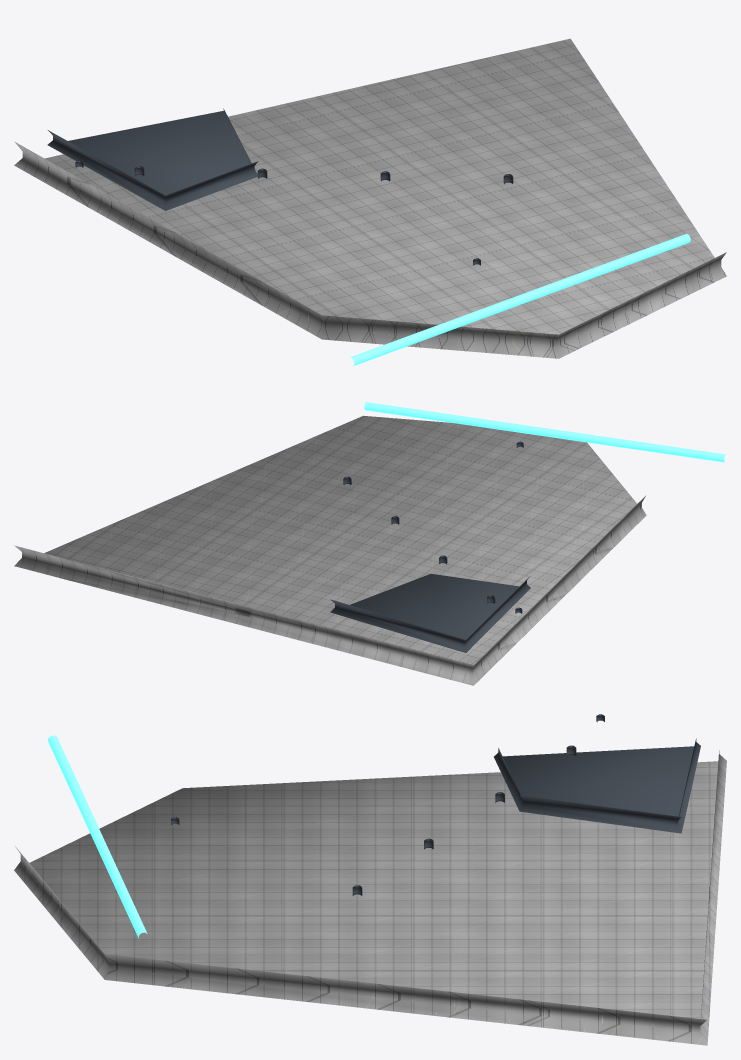
Rendered from fin_delta.glb.
3 renders of one model, top to bottom at view 1: azimuth 30°, elevation 25°; view 2: azimuth 150°, elevation 25°; view 3: azimuth 270°, elevation 25°, orthographic. The views are drawn at different scales.
Parts seen in each view (by area): view 1: Delta_Main, fin_delta_Material_Mechanical_Merged, Delta_Edge; view 2: Delta_Main, fin_delta_Material_Mechanical_Merged, Delta_Edge; view 3: Delta_Main, fin_delta_Material_Mechanical_Merged, Delta_Edge.
Part boxes in pixels (box(x1,y1,x2,y2)): Delta_Main: box(14, 38, 726, 358); fin_delta_Material_Mechanical_Merged: box(47, 108, 513, 265); Delta_Edge: box(350, 233, 690, 366); Delta_Main: box(14, 415, 646, 685); fin_delta_Material_Mechanical_Merged: box(330, 441, 530, 652); Delta_Edge: box(364, 402, 725, 462); Delta_Main: box(14, 750, 726, 1045); fin_delta_Material_Mechanical_Merged: box(171, 714, 700, 895); Delta_Edge: box(48, 735, 147, 938).
Bounding box in the file's own units: 5.2 × 0.4125 × 5.5.
Materials: 3 (1 with a texture image).
